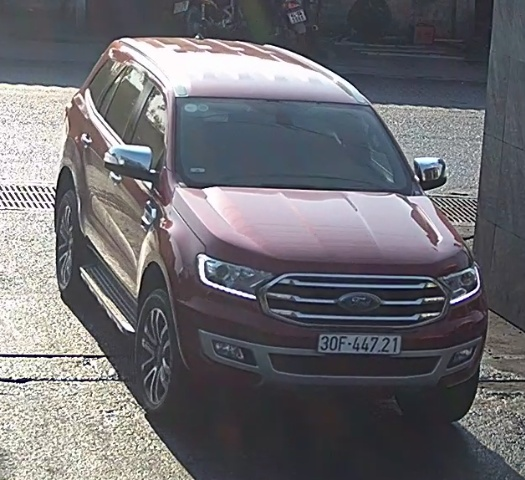vehicle plate: (316, 327, 410, 360)
